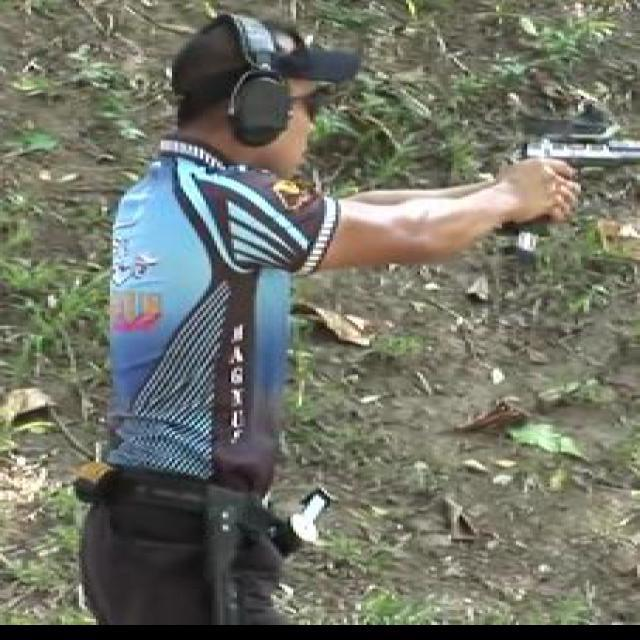gun: (502, 128, 637, 252)
